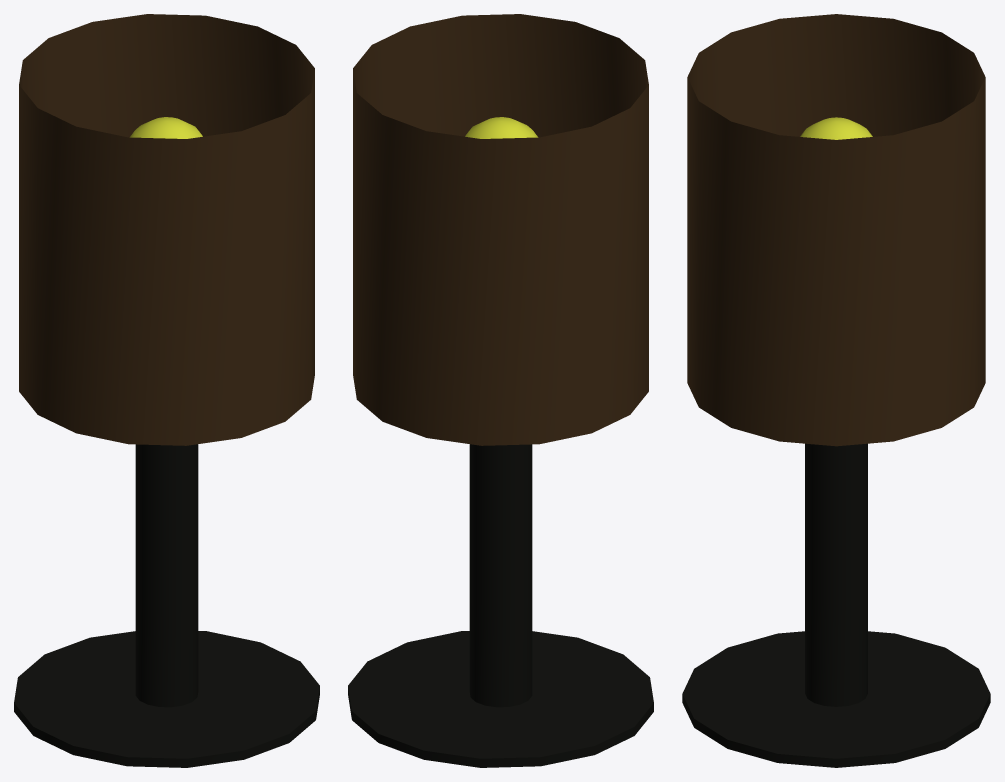
File: Small Lamp.fbx
3 renders of one model, left to right at view 1: azimuth 30°, elevation 25°; view 2: azimuth 150°, elevation 25°; view 3: azimuth 270°, elevation 25°, orthographic.
Parts seen in each view (by area): view 1: Cylinder_2, Cylinder_1, Cylinder, Sphere; view 2: Cylinder_2, Cylinder_1, Cylinder, Sphere; view 3: Cylinder_2, Cylinder_1, Cylinder, Sphere.
Boxes of the visible parts, x1=… form: Cylinder_2: x1=19, y1=14, x2=314, y2=445; Cylinder_1: x1=14, y1=631, x2=319, y2=767; Cylinder: x1=135, y1=444, x2=198, y2=707; Sphere: x1=129, y1=117, x2=202, y2=138; Cylinder_2: x1=353, y1=14, x2=648, y2=445; Cylinder_1: x1=348, y1=631, x2=653, y2=767; Cylinder: x1=469, y1=444, x2=532, y2=707; Sphere: x1=465, y1=117, x2=538, y2=138; Cylinder_2: x1=687, y1=14, x2=985, y2=446; Cylinder_1: x1=682, y1=631, x2=990, y2=767; Cylinder: x1=805, y1=443, x2=867, y2=706; Sphere: x1=800, y1=117, x2=872, y2=139.
Size of the model in its own units: 103 by 232 by 103.
